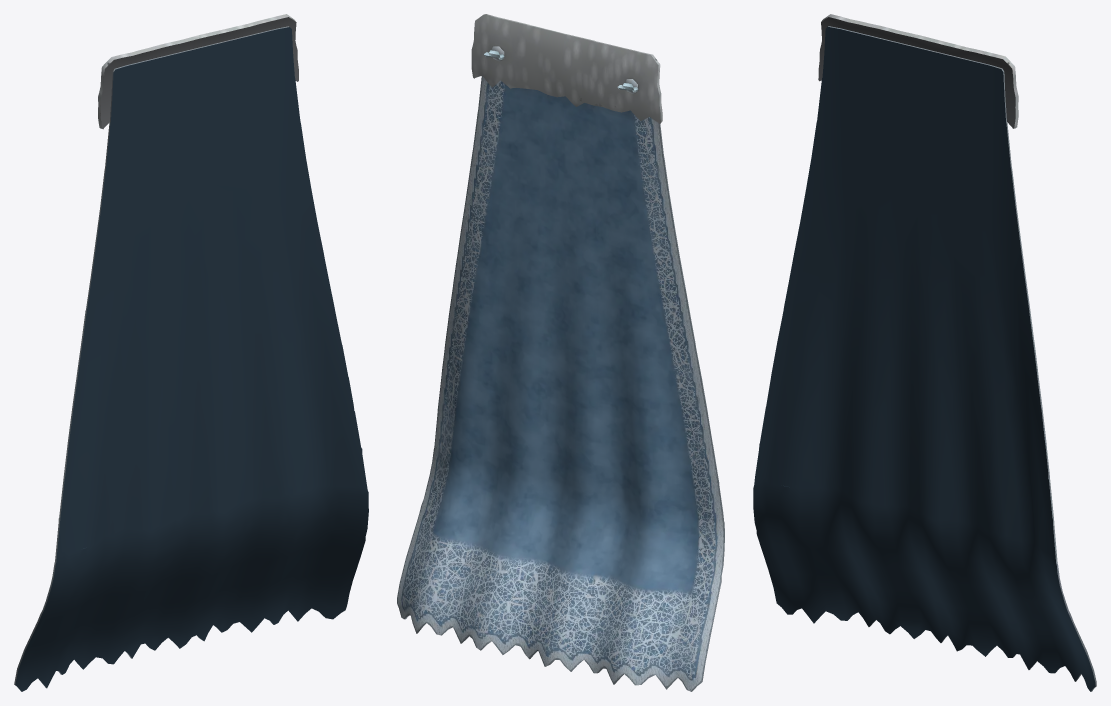
The model's file is cape_glacial.glb.
3 renders of one model, left to right at view 1: azimuth 30°, elevation 25°; view 2: azimuth 150°, elevation 25°; view 3: azimuth 330°, elevation 25°, orthographic. The views are drawn at different scales.
Visible parts, largest first — view 1: cape; view 2: cape; view 3: cape.
Part boxes in pixels (x1,y1,x2,y2): cape: (14,14,368,691); cape: (397,14,724,691); cape: (753,14,1096,691).
Bounding box in the file's own units: 0.549 × 1.03 × 0.1451.
1 material, 1 textured.
